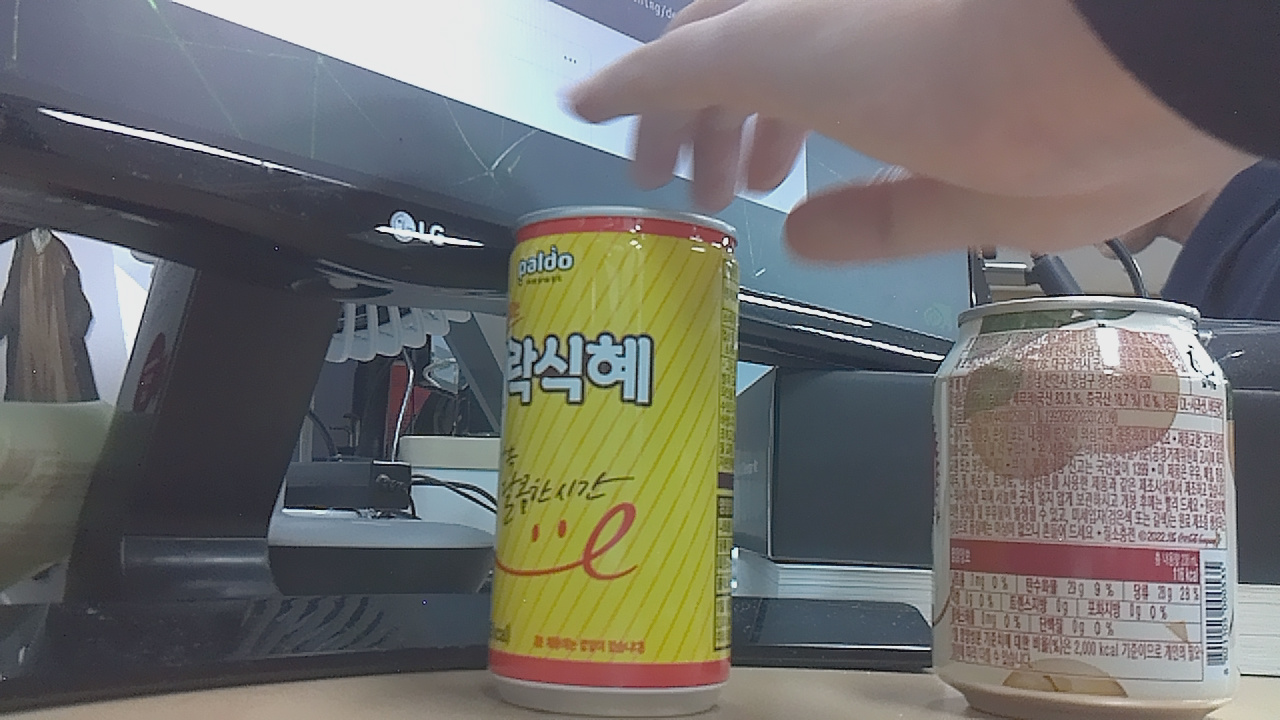IdH (pear juice): (924, 295, 1246, 720)
paldo shikhye: (470, 209, 751, 720)
